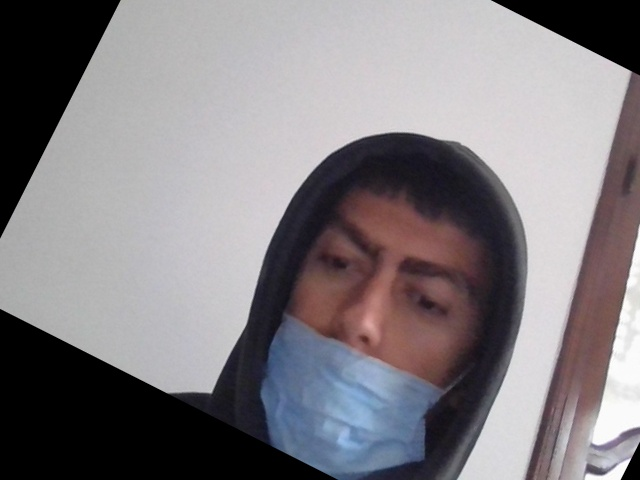mask_weared_incorrect: (263, 186, 486, 472)
